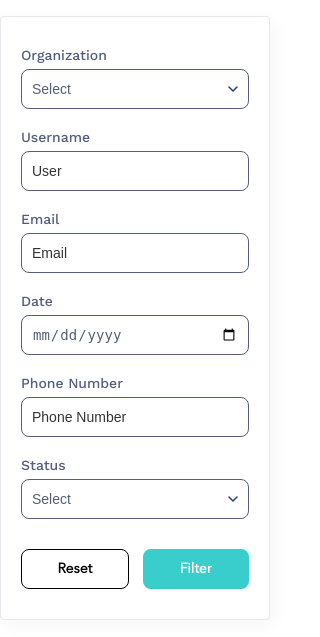
Test: FilterModal › resets the form
Type "testuser" into the field labelled "Username" at (135, 171), box [21, 151, 249, 191]
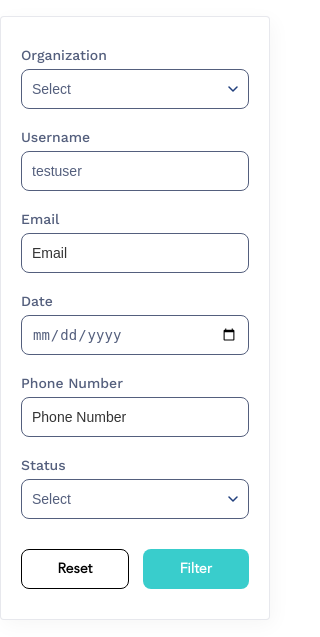
Click the button "Reset" at (75, 569), box [21, 549, 129, 589]
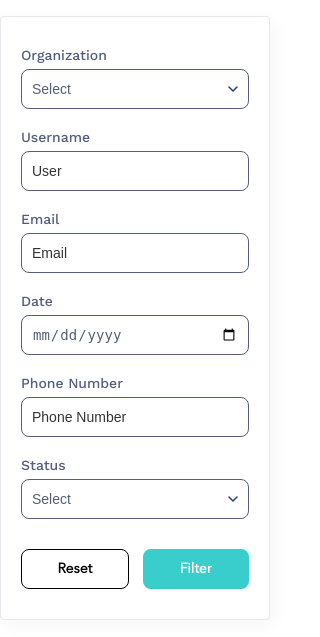
Expected: the field labelled "Username" is empty, [21, 151, 249, 191]
